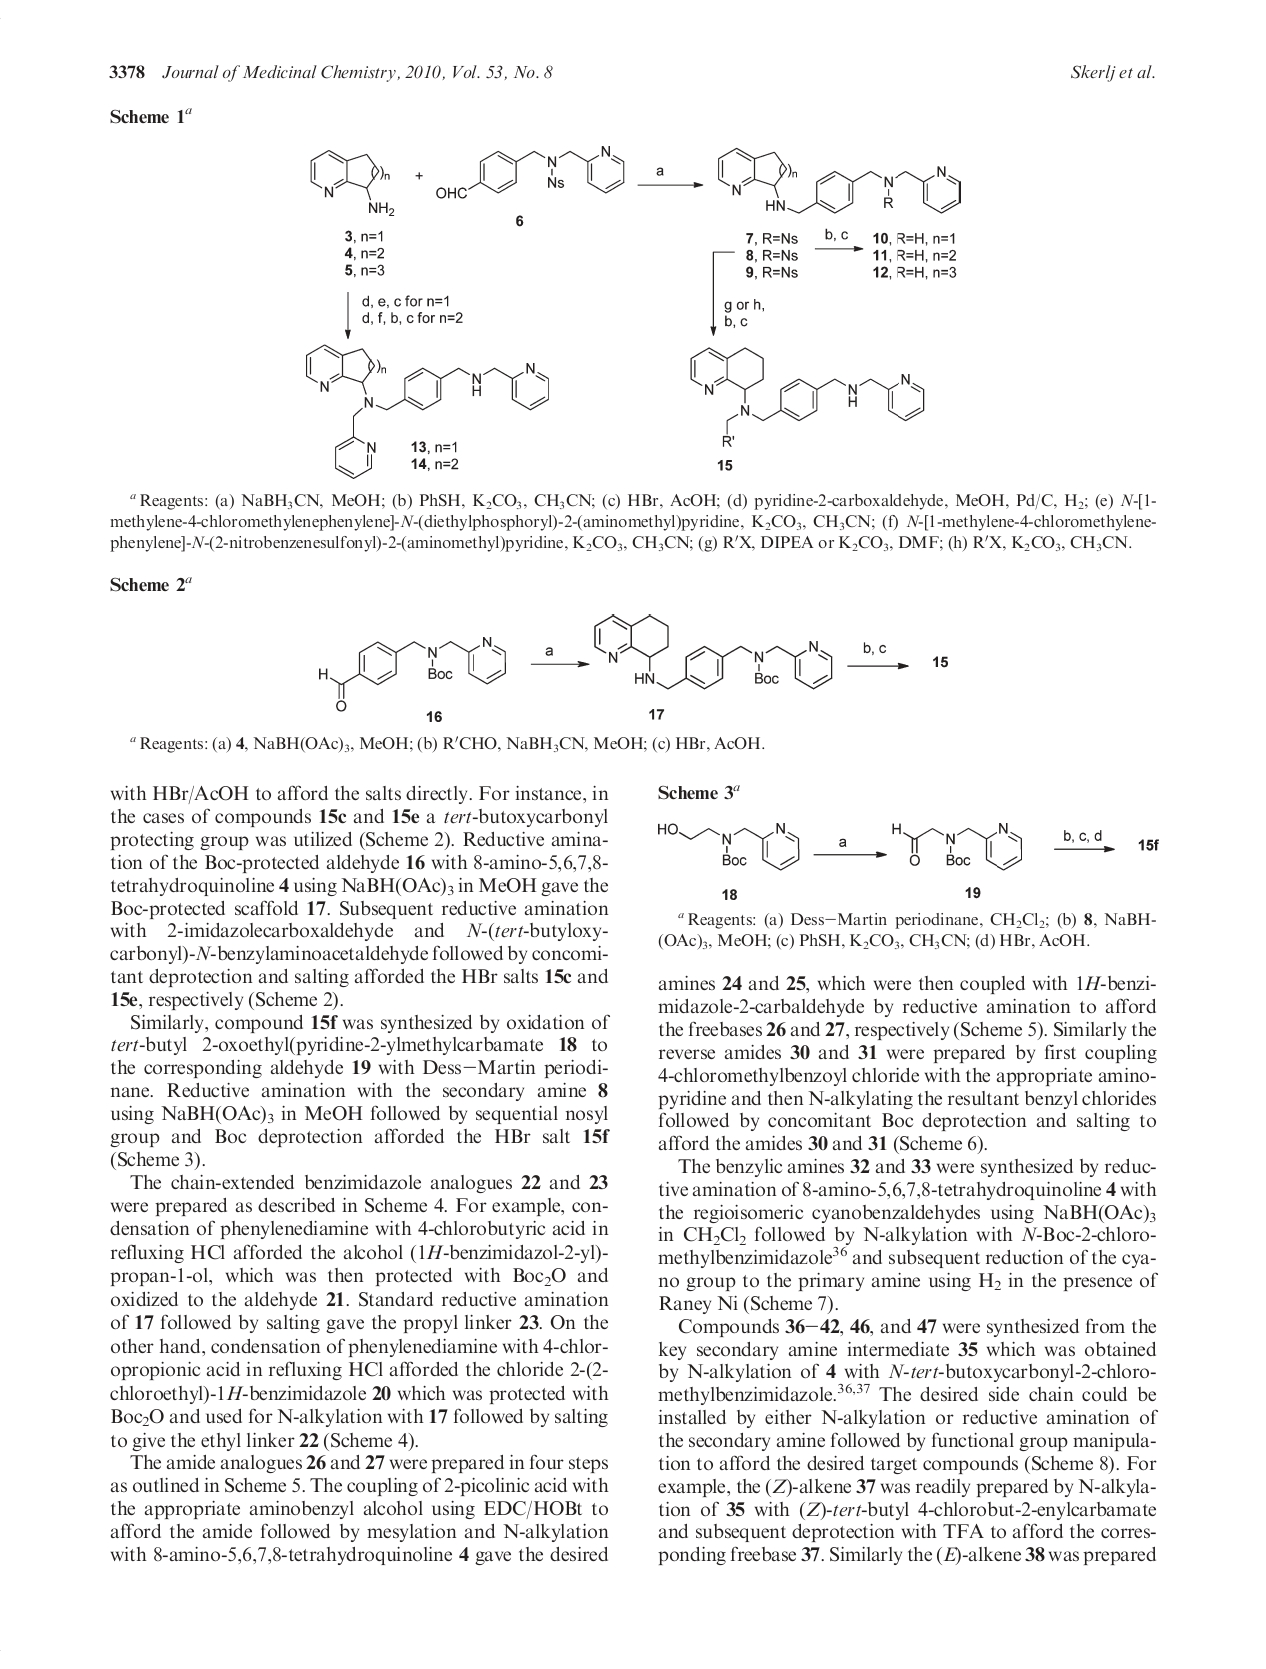exist_molecular: (301, 339, 561, 481), (684, 339, 934, 449), (586, 605, 838, 700), (711, 138, 969, 219), (318, 617, 511, 715), (434, 141, 633, 207), (650, 807, 814, 871), (880, 813, 1033, 875), (305, 141, 406, 217)
